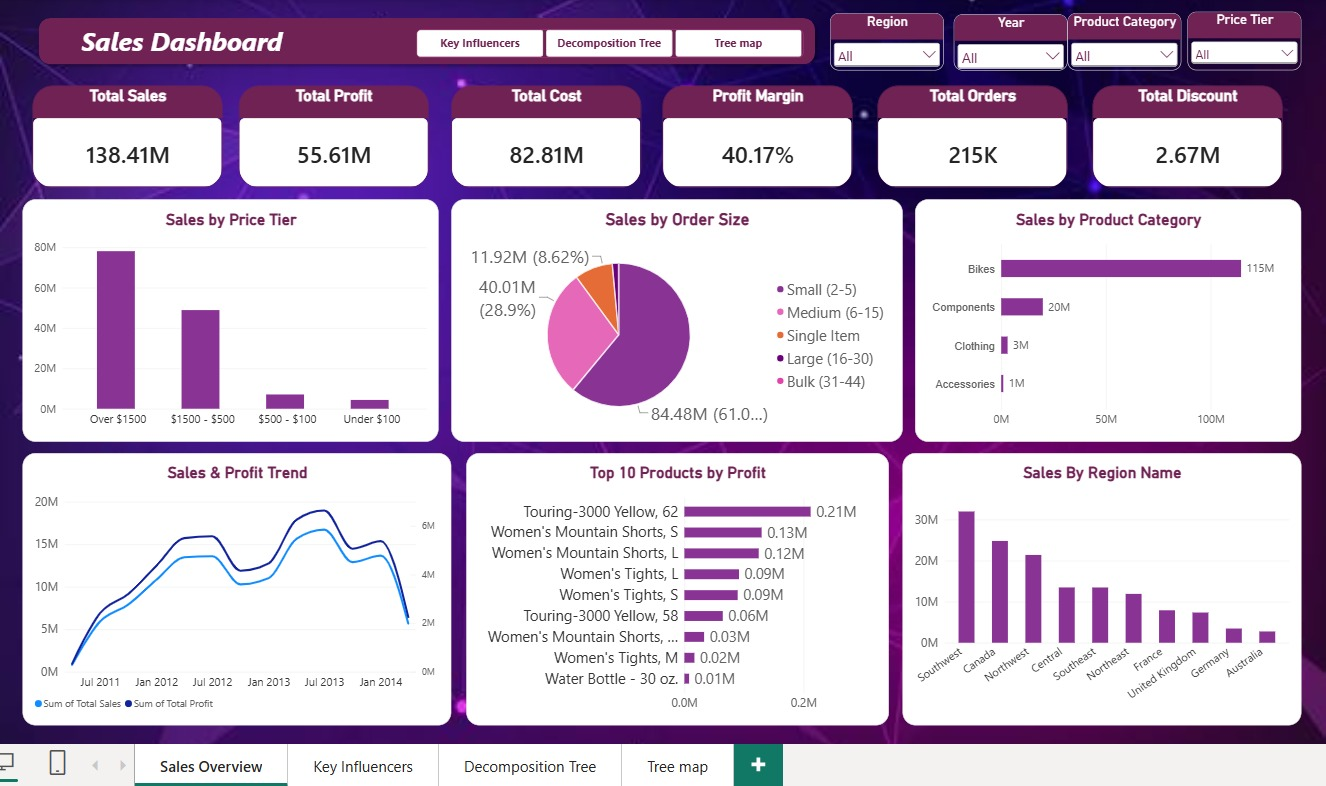

The dashboard page shown, as its layout file describes it:
{"tool":"powerbi","page":{"name":"Sales Overview ","canvas":[1920,1080],"ordinal":0},"visuals":[{"type":"shape","box":[47.1,19.9,1141.9,85.1],"z":0},{"type":"cardVisual","title":"Total Sales","fields":{"Data":["Sum(Sales.Total Sales)"]},"box":[47.1,126.7,275.1,148.4],"z":1000},{"type":"cardVisual","title":"Total Discount","fields":{"Data":["Sum(Sales.Discount Amount)"]},"box":[1581.6,126.7,275.1,148.4],"z":2000},{"type":"cardVisual","title":"Total Orders","fields":{"Data":["Sum(Sales.Order Quantity)"]},"box":[1270.4,126.7,275.1,148.4],"z":3000},{"type":"cardVisual","title":"Profit Margin","fields":{"Data":["Sales.Profit Margin"]},"box":[959.1,126.7,275.1,148.4],"z":4000},{"type":"cardVisual","title":"Total Cost","fields":{"Data":["Sum(Sales.Total Cost)"]},"box":[653.3,126.7,275.1,148.4],"z":5000},{"type":"cardVisual","title":"Total Profit","fields":{"Data":["Sum(Sales.Total Profit)"]},"box":[345.6,126.7,275.1,148.4],"z":6000},{"type":"lineChart","title":"Sales & Profit Trend","fields":{"Category":["Sales.Order Date.Variation.Date Hierarchy.Year","Sales.Order Date.Variation.Date Hierarchy.Quarter"],"Y2":["Sum(Sales.Total Profit)"],"Y":["Sum(Sales.Total Sales)"]},"box":[32.6,658.7,620.7,394.5],"z":7000},{"type":"clusteredBarChart","title":"Top 10 Products by Profit","fields":{"Category":["Product.Product Name"],"Y":["Sum(Sales.Total Profit)"]},"box":[675,658.7,611.7,394.5],"z":8000},{"type":"pieChart","title":"Sales by Order Size","fields":{"Category":["Sales.Order Size"],"Y":["Sum(Sales.Total Sales)"]},"box":[653.3,291.4,653.3,351.1],"z":9000},{"type":"columnChart","title":"Sales by Price Tier","fields":{"Category":["Product.Price Tier"],"Y":["Sum(Sales.Total Sales)"]},"box":[32.6,291.4,602.6,351.1],"z":10000},{"type":"clusteredBarChart","title":"Sales by Product Category","fields":{"Category":["Product.Product Category"],"Y":["Sum(Sales.Total Sales)"]},"box":[1324.7,291.4,559.2,351.1],"z":12000},{"type":"slicer","title":"Region","fields":{"Values":["Region.Region Name"]},"box":[1188.9,21.7,164.7,83.2],"z":13000},{"type":"slicer","title":"Year","fields":{"Values":["Sales.Order Date.Variation.Date Hierarchy.Year"]},"box":[1366.3,21.7,164.7,81.4],"z":14000},{"type":"slicer","title":"Product Category","fields":{"Values":["Product.Product Category"]},"box":[1545.5,21.7,164.7,83.2],"z":15000},{"type":"slicer","title":"Price Tier","fields":{"Values":["Product.Price Tier"]},"box":[1719.2,21.7,164.7,85.1],"z":16000},{"type":"pageNavigator","box":[606.2,50.7,561,41.6],"z":17000},{"type":"clusteredColumnChart","title":"Sales By Region Name ","fields":{"Category":["Region.Region Name"],"Y":["Sum(Sales.Total Sales)"]},"box":[1306.6,658.7,577.3,394.5],"z":17001},{"type":"textbox","box":[117.6,36.2,365.6,56.1],"z":17002}]}

Visuals, with their boxes on the page's 1920x1080 design canvas (x1, y1, x2, y2). These are canvas units, not pixel positions in the 1326x786 screenshot, which may show the page scaled, cropped or inside an application window:
shape: [left=47, top=20, right=1189, bottom=105]
"Total Sales" cardVisual: [left=47, top=127, right=322, bottom=275]
"Total Discount" cardVisual: [left=1582, top=127, right=1857, bottom=275]
"Total Orders" cardVisual: [left=1270, top=127, right=1546, bottom=275]
"Profit Margin" cardVisual: [left=959, top=127, right=1234, bottom=275]
"Total Cost" cardVisual: [left=653, top=127, right=928, bottom=275]
"Total Profit" cardVisual: [left=346, top=127, right=621, bottom=275]
"Sales & Profit Trend" lineChart: [left=33, top=659, right=653, bottom=1053]
"Top 10 Products by Profit" clusteredBarChart: [left=675, top=659, right=1287, bottom=1053]
"Sales by Order Size" pieChart: [left=653, top=291, right=1307, bottom=642]
"Sales by Price Tier" columnChart: [left=33, top=291, right=635, bottom=642]
"Sales by Product Category" clusteredBarChart: [left=1325, top=291, right=1884, bottom=642]
"Region" slicer: [left=1189, top=22, right=1354, bottom=105]
"Year" slicer: [left=1366, top=22, right=1531, bottom=103]
"Product Category" slicer: [left=1546, top=22, right=1710, bottom=105]
"Price Tier" slicer: [left=1719, top=22, right=1884, bottom=107]
pageNavigator: [left=606, top=51, right=1167, bottom=92]
"Sales By Region Name " clusteredColumnChart: [left=1307, top=659, right=1884, bottom=1053]
textbox: [left=118, top=36, right=483, bottom=92]
